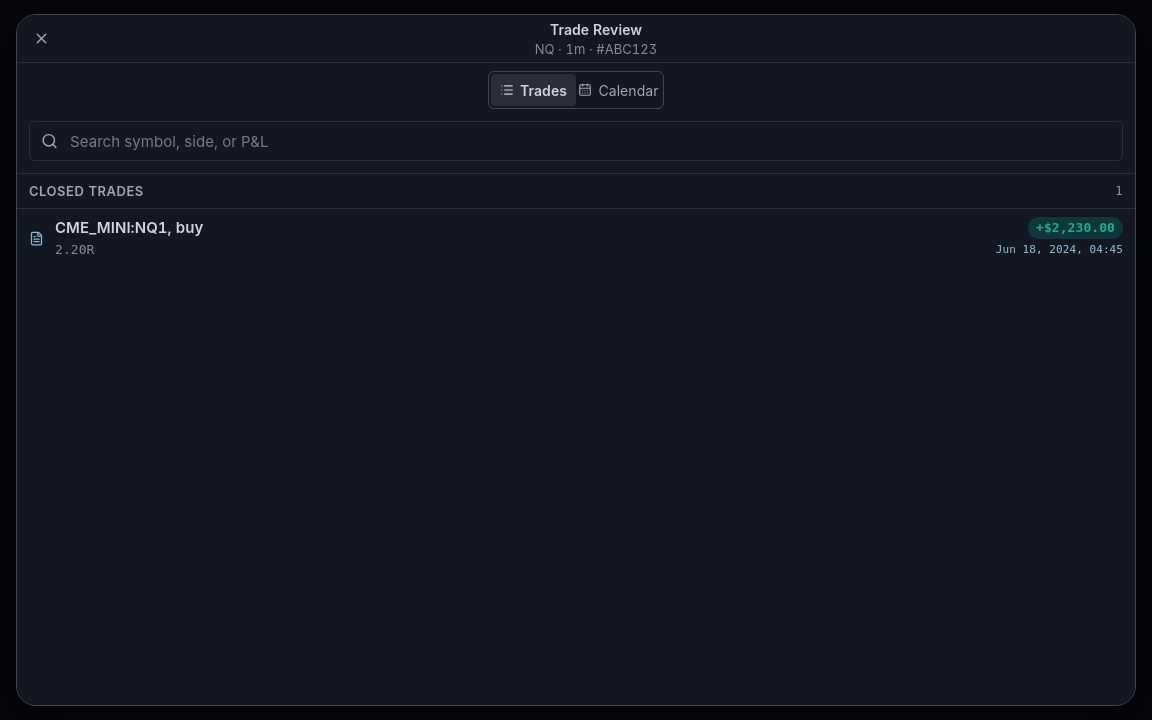
Test: ReviewPanel › collapses and restores the active tag/details metadata panel
The image size is (1152, 720).
Click the button "CME_MINI:NQ1, buy +$2,230.00 2.20R Jun 18, 2024, 04:45" at (111, 228), box [17, 209, 1135, 267]
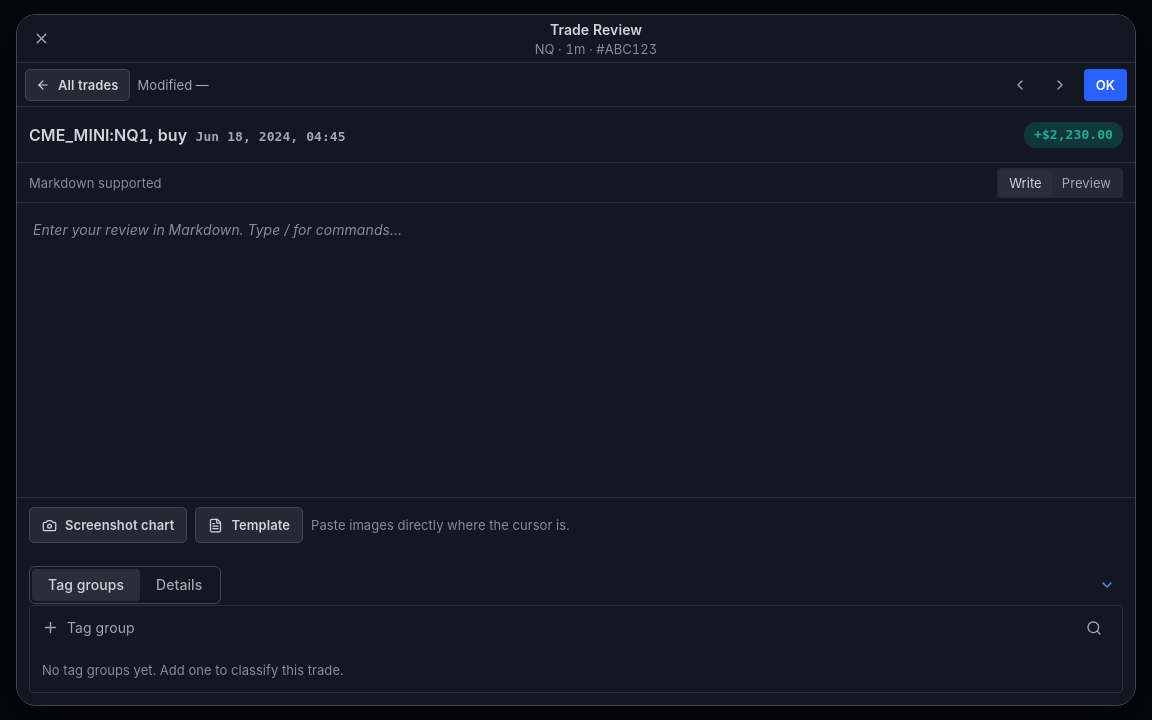
Click the button named "Hide trade metadata" at (1107, 585), box [1091, 569, 1123, 601]
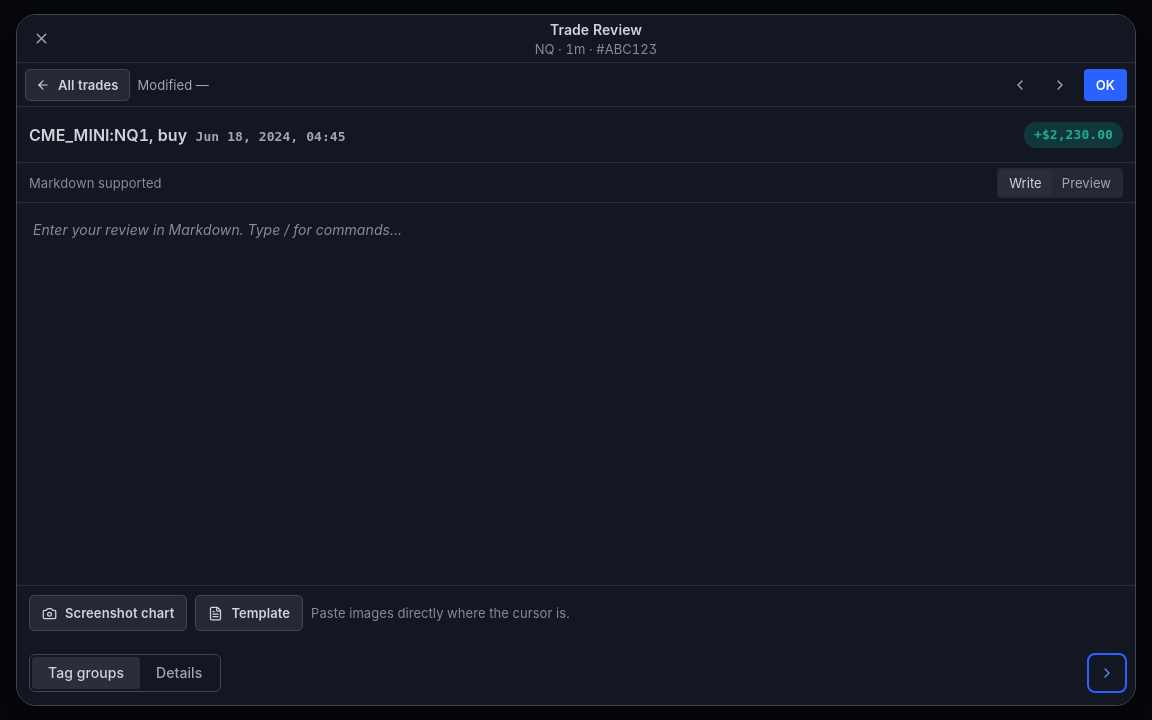
Click the button named "Show trade metadata" at (1107, 673), box [1091, 657, 1123, 689]
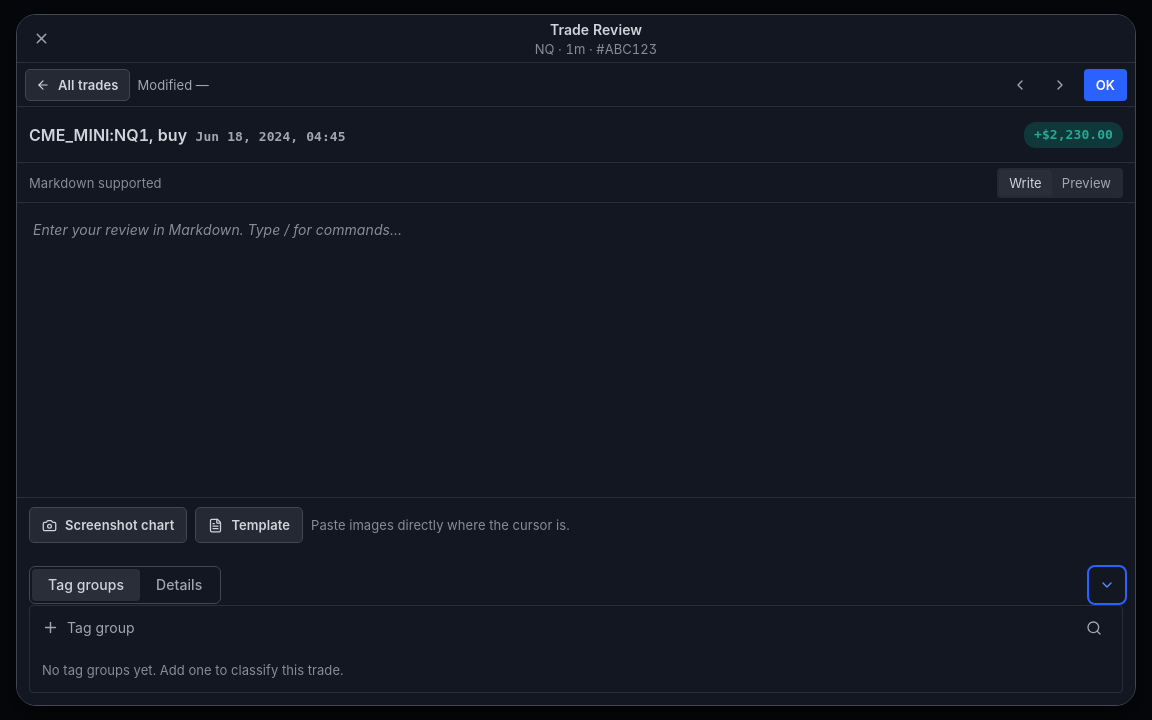
Expected: the panel is shown, [29, 605, 1123, 693]
